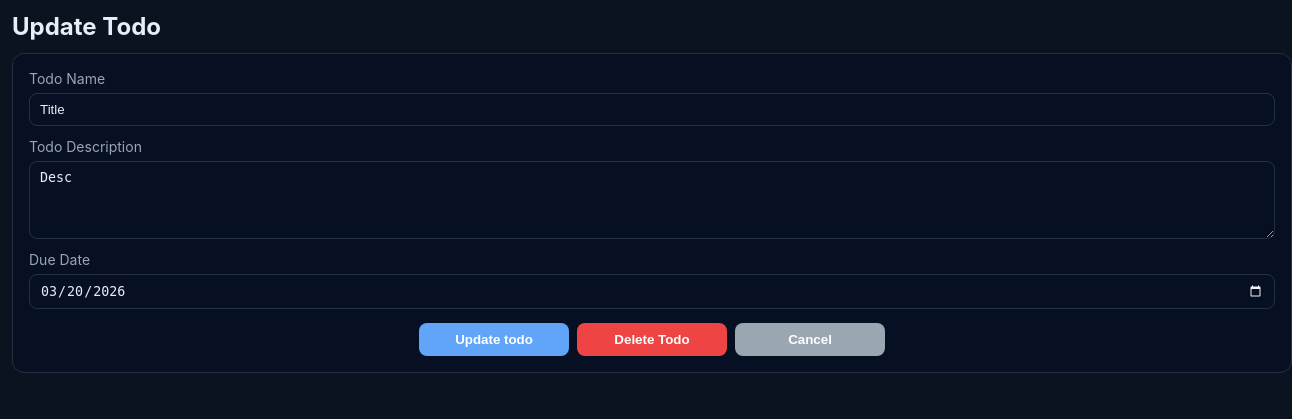
it: AddComponent › Update todo API fails without message
The width and height of the screenshot is (1292, 419).
Click the button "Update todo". click: click(494, 340)
box: [419,323,569,356]
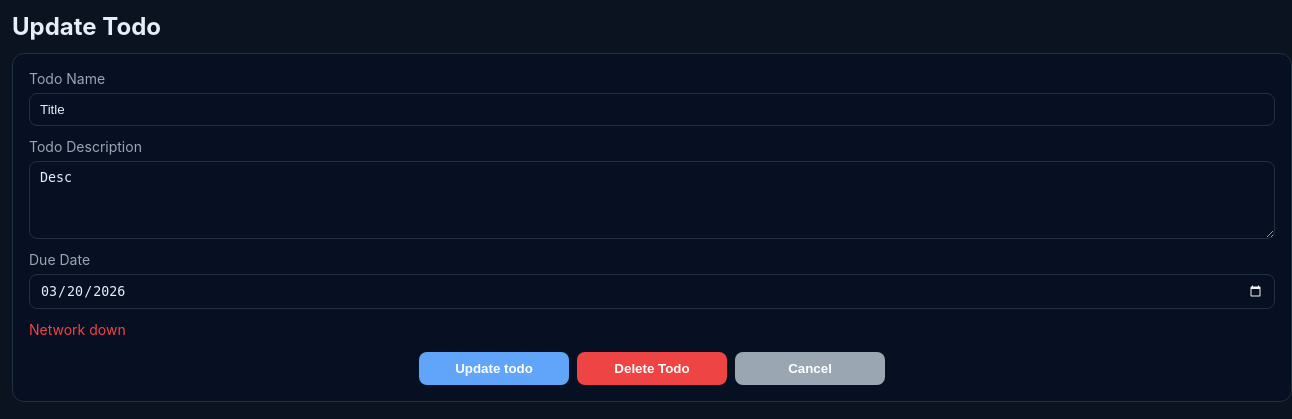
Check: the text "Network down" is shown, box [29,321,126,338]
